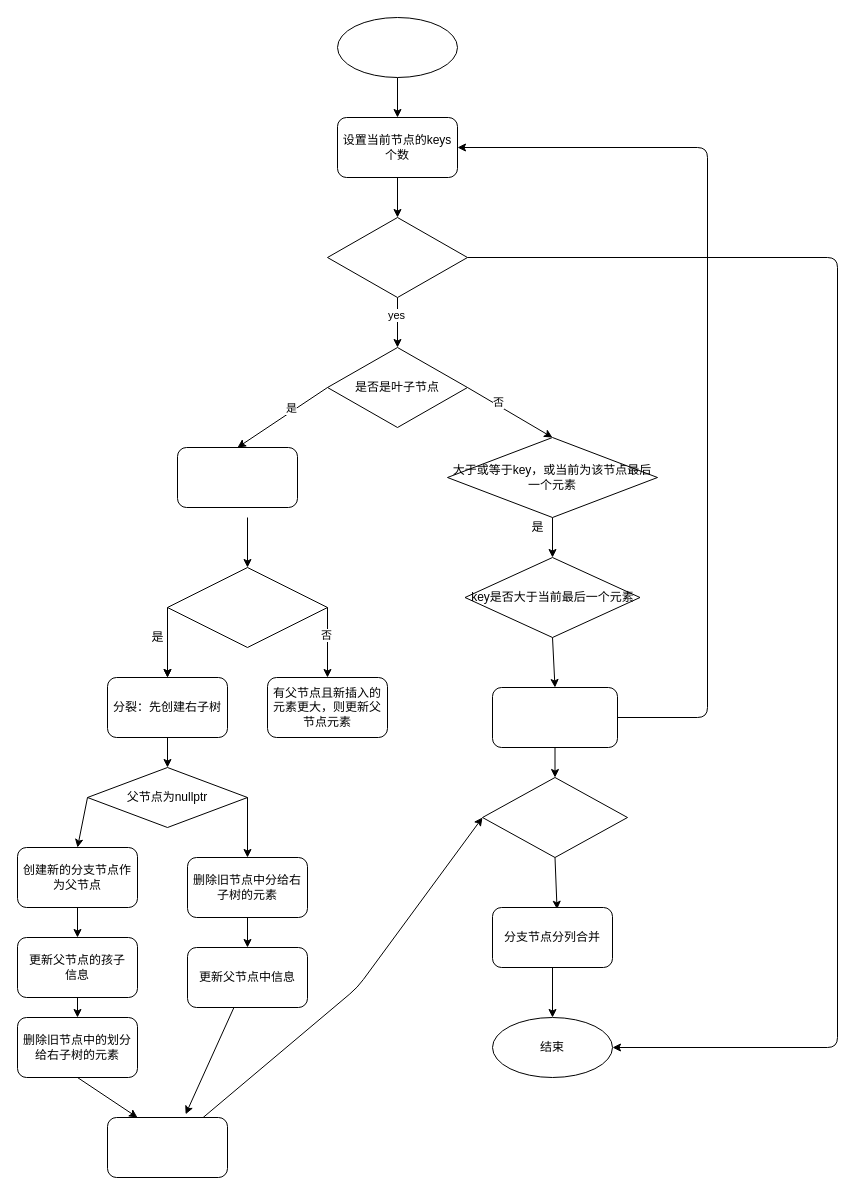
Image size: 863x1195. Some labels were removed from this diagram. Here are the shapes that lost their labels. From the top down, the centre of each, then its label:
the point at 397,47: 开始
the point at 397,257: 是否小于size
the point at 237,477: 将元素插入叶子节点
the point at 247,607: 是否超过最大元素个数
the point at 555,717: 递归调用doInsert
the point at 555,817: 插入完成后，父节点是否需要分裂
the point at 167,1147: 更新叶子节点链表信息
